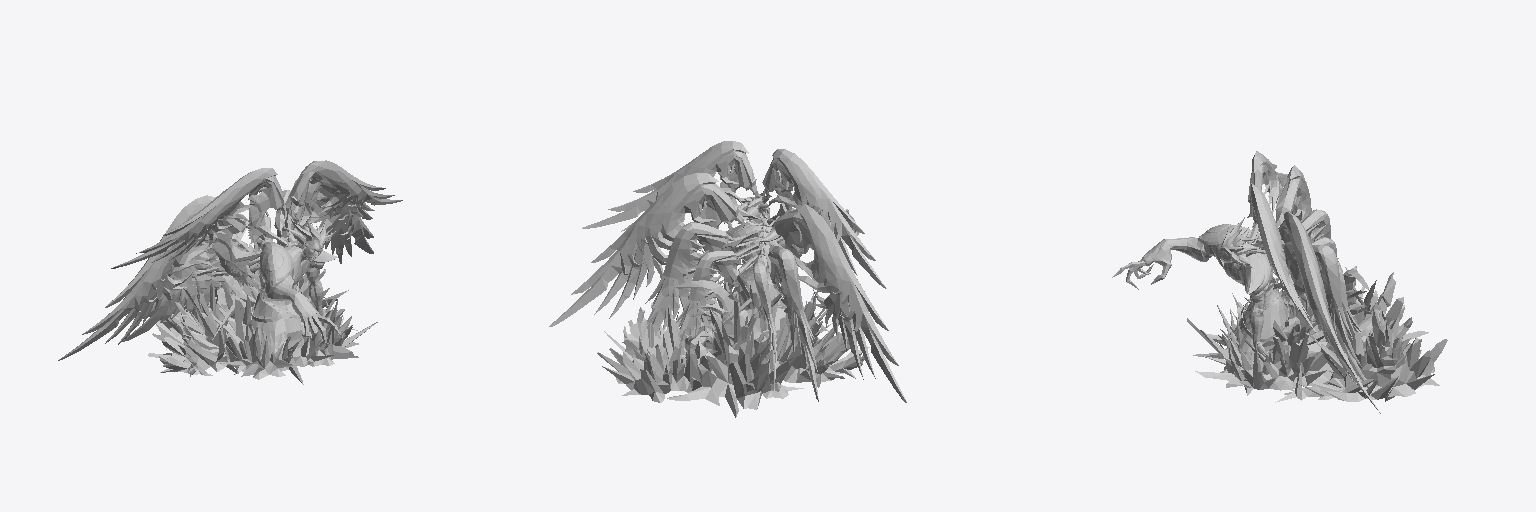
File: general.obj
3 views of the same model, side by side, from view 1: azimuth 30°, elevation 25°; view 2: azimuth 150°, elevation 25°; view 3: azimuth 270°, elevation 25° (orthographic).
Visible parts, largest first — view 1: f089_a.001_f089_a.001_f089_a_trbtex000.dds, f089_d_f089_d_f089_d_trbtex003.dds, f089_b_f089_b_f089_b_trbtex001.dds; view 2: f089_a.001_f089_a.001_f089_a_trbtex000.dds, f089_d_f089_d_f089_d_trbtex003.dds; view 3: f089_a.001_f089_a.001_f089_a_trbtex000.dds, f089_d_f089_d_f089_d_trbtex003.dds, f089_b_f089_b_f089_b_trbtex001.dds.
Part boxes in pixels (left/top/right/bottom): f089_a.001_f089_a.001_f089_a_trbtex000.dds: left=58, top=160, right=402, bottom=360; f089_d_f089_d_f089_d_trbtex003.dds: left=148, top=228, right=377, bottom=384; f089_b_f089_b_f089_b_trbtex001.dds: left=251, top=282, right=322, bottom=359; f089_a.001_f089_a.001_f089_a_trbtex000.dds: left=549, top=141, right=906, bottom=402; f089_d_f089_d_f089_d_trbtex003.dds: left=597, top=269, right=869, bottom=417; f089_a.001_f089_a.001_f089_a_trbtex000.dds: left=1112, top=151, right=1380, bottom=413; f089_d_f089_d_f089_d_trbtex003.dds: left=1187, top=266, right=1447, bottom=402; f089_b_f089_b_f089_b_trbtex001.dds: left=1234, top=278, right=1289, bottom=370.
Size of the model in its own units: 3.29 by 1.83 by 2.83.